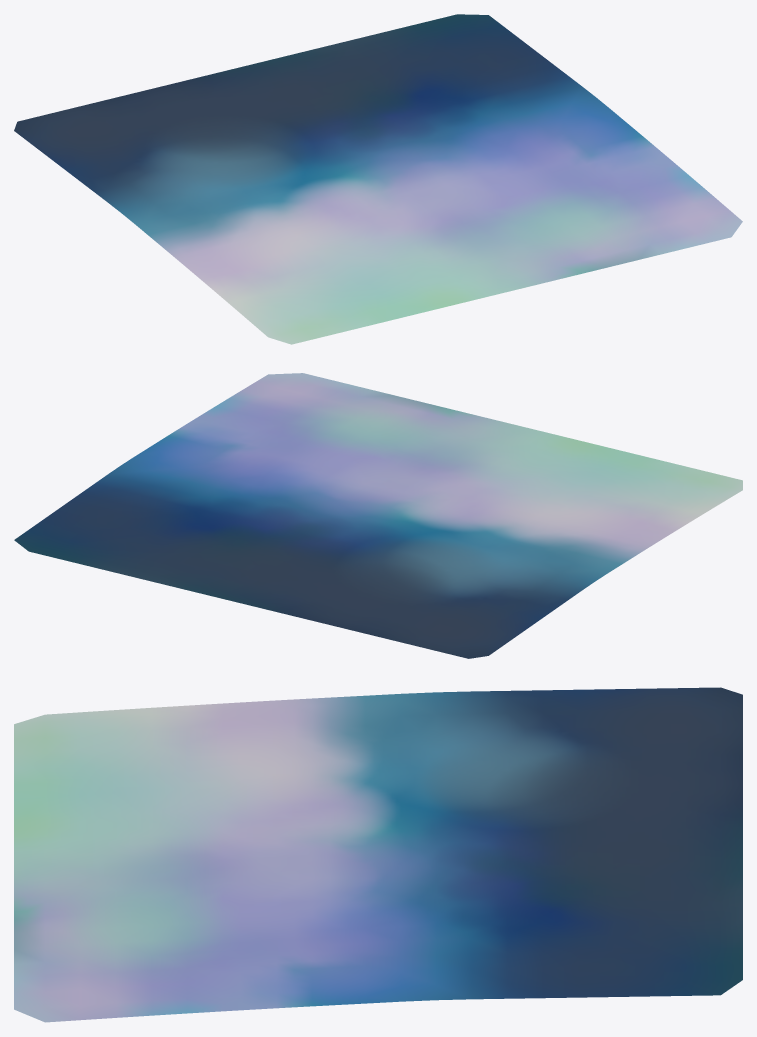
Rendered from pref_sce_081501_water01_lv3.fbx.
3 renders of one model, top to bottom at view 1: azimuth 30°, elevation 25°; view 2: azimuth 150°, elevation 25°; view 3: azimuth 270°, elevation 25°, orthographic. The views are drawn at different scales.
Visible parts, largest first — view 1: pref_sce_081501_water01_lv3; view 2: pref_sce_081501_water01_lv3; view 3: pref_sce_081501_water01_lv3.
Part boxes in pixels (x1=…): pref_sce_081501_water01_lv3: x1=14, y1=14, x2=742, y2=344; pref_sce_081501_water01_lv3: x1=14, y1=373, x2=742, y2=658; pref_sce_081501_water01_lv3: x1=14, y1=687, x2=742, y2=1022.
Bounding box in the file's own units: 188 × 8.39 × 188.
